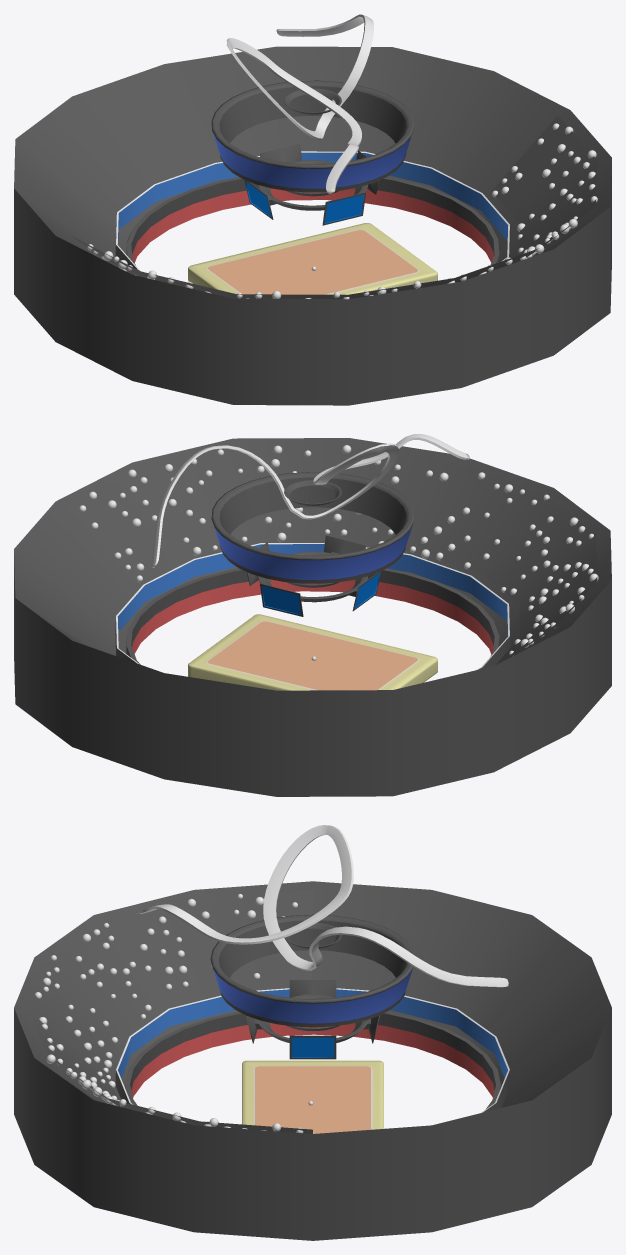
The model's file is Map.fbx.
The picture shows the model from 3 angles, top to bottom: view 1: azimuth 30°, elevation 25°; view 2: azimuth 150°, elevation 25°; view 3: azimuth 270°, elevation 25°; orthographic projection.
Visible parts, largest first — view 1: Plane, Circle, MapAndScreen, HumenPlate, Decoration2, Humen; view 2: Plane, HumenPlate, Circle, MapAndScreen, Humen, Decoration2; view 3: Plane, HumenPlate, Circle, MapAndScreen, Decoration2, Humen.
Boxes of the visible parts, x1,y1,x2,y2 form: Plane: [14, 46, 611, 405]; Circle: [211, 80, 414, 225]; MapAndScreen: [188, 223, 437, 294]; HumenPlate: [70, 115, 597, 299]; Decoration2: [226, 14, 373, 193]; Humen: [87, 123, 597, 299]; Plane: [14, 438, 611, 796]; HumenPlate: [68, 446, 597, 664]; Circle: [211, 472, 414, 616]; MapAndScreen: [188, 614, 437, 690]; Humen: [79, 445, 598, 655]; Decoration2: [151, 434, 469, 567]; Plane: [14, 881, 611, 1240]; HumenPlate: [29, 889, 312, 1133]; Circle: [210, 914, 414, 1059]; MapAndScreen: [242, 1060, 383, 1133]; Decoration2: [136, 825, 508, 987]; Humen: [34, 894, 303, 1133].
Size of the model in its own units: 8572 by 4068 by 8572.
